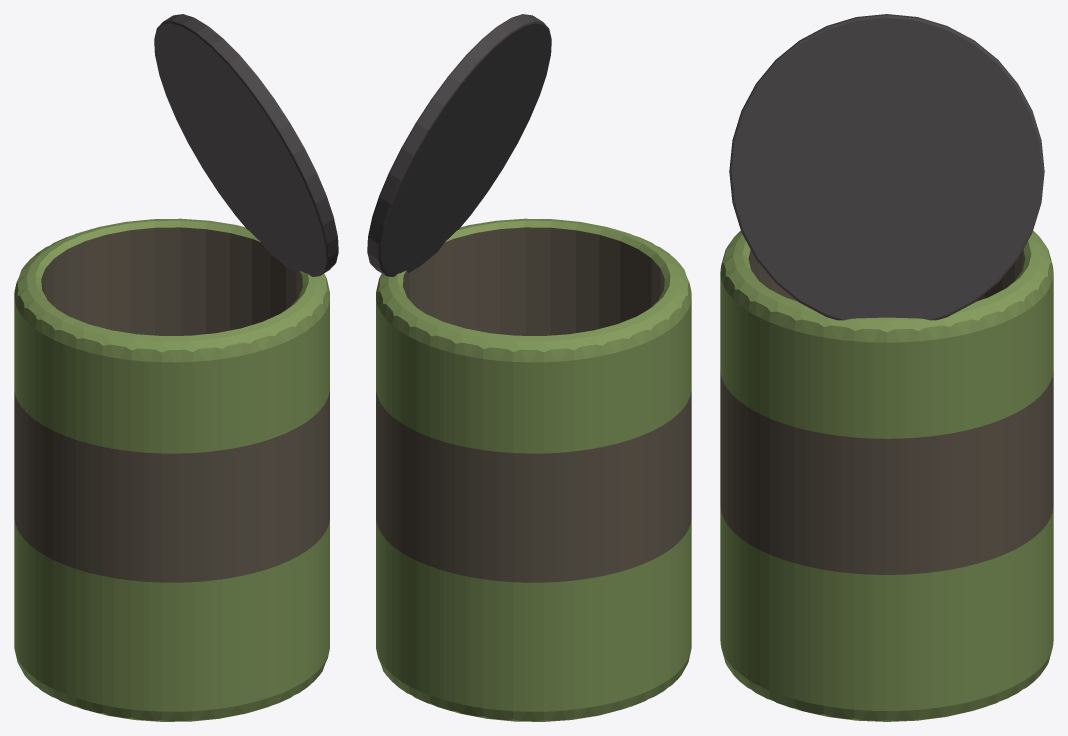
The model's file is food_can_1_partyassets.fbx.
3 renders of one model, left to right at view 1: azimuth 30°, elevation 25°; view 2: azimuth 150°, elevation 25°; view 3: azimuth 270°, elevation 25°, orthographic. The views are drawn at different scales.
Parts seen in each view (by area): view 1: food_can_1_partyassets, Cube.034, Cube.003; view 2: food_can_1_partyassets, Cube.034, Cube.003; view 3: food_can_1_partyassets, Cube.003, Cube.034.
Boxes of the visible parts, x1=… form: food_can_1_partyassets: x1=14, y1=218, x2=329, y2=721; Cube.034: x1=14, y1=227, x2=329, y2=582; Cube.003: x1=154, y1=14, x2=338, y2=276; food_can_1_partyassets: x1=376, y1=218, x2=691, y2=721; Cube.034: x1=376, y1=227, x2=691, y2=582; Cube.003: x1=367, y1=14, x2=551, y2=276; food_can_1_partyassets: x1=720, y1=231, x2=1053, y2=721; Cube.003: x1=729, y1=14, x2=1044, y2=320; Cube.034: x1=720, y1=250, x2=1053, y2=574.
Size of the model in its own units: 10.89 by 23.79 by 10.89.
